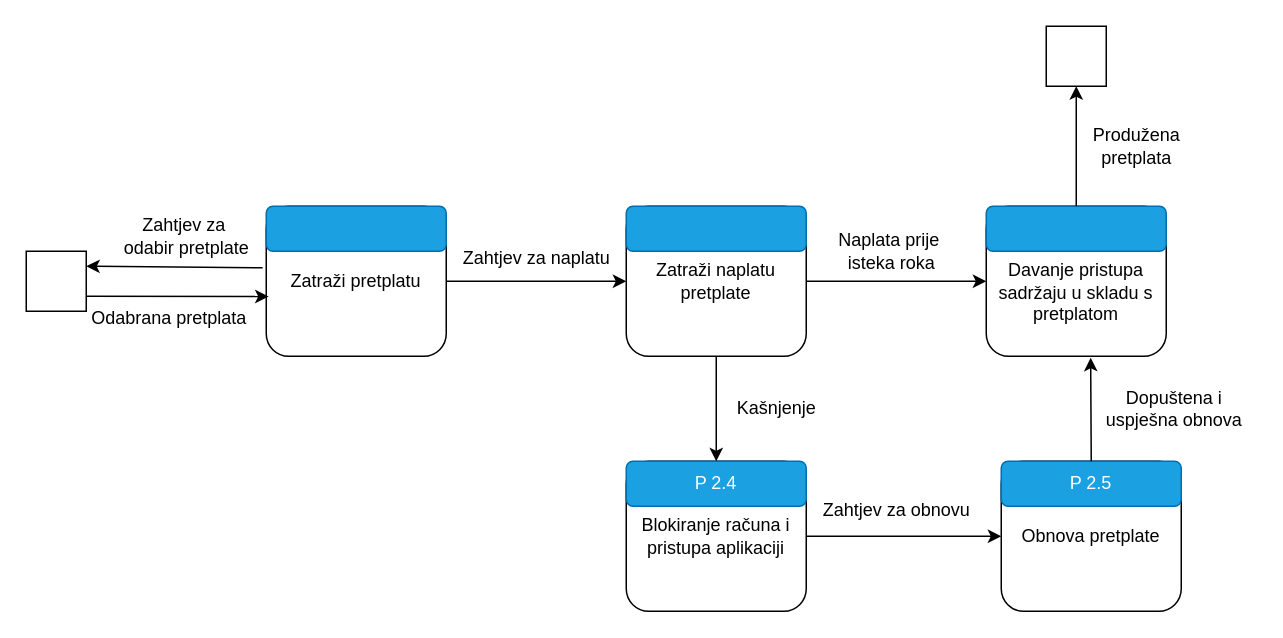
The diagram is 1283 pixels wide and 638 high, and some of its shapes have lost their labels. The shapes that lost their labels are listed below. From the top down, each one's centre as x and y in pixels, then its label:
At point 355,228: "P 2.1".
At point 715,228: "P 2.2".
At point 1075,228: "P 2.3".
